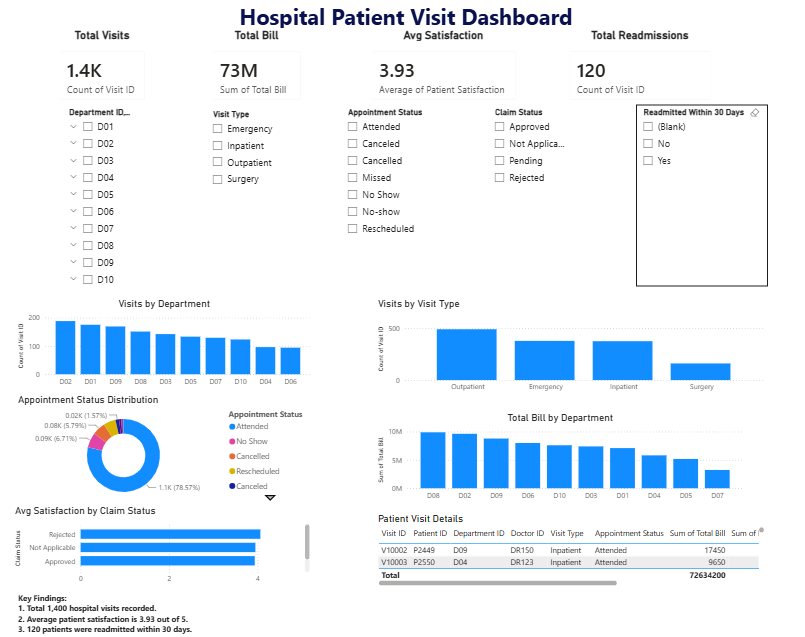

The dashboard page shown, as its layout file describes it:
{"tool":"powerbi","page":{"name":"Page 1","canvas":[1400,1100],"ordinal":0},"visuals":[{"type":"textbox","box":[64,0,1270,72],"z":0},{"type":"cardVisual","title":"Total Visits","fields":{"Data":["CountNonNull(Patient_Visits.Visit ID)"]},"box":[90,52.5,180,140],"z":1000},{"type":"cardVisual","title":"Total Bill","fields":{"Data":["Sum(Patient_Visits.Total Bill)"]},"box":[352.5,52.5,185,140],"z":2000},{"type":"cardVisual","title":"Avg Satisfaction","fields":{"Data":["Avg(Patient_Visits.Patient Satisfaction)"]},"box":[622.5,52.5,280,140],"z":3000},{"type":"cardVisual","title":"Total Readmissions","fields":{"Data":["CountNonNull(Patient_Visits.Visit ID)"]},"box":[962.5,52.5,275,140],"z":4000},{"type":"clusteredColumnChart","title":"Visits by Department","fields":{"Category":["Patient_Visits.Department ID"],"Y":["CountNonNull(Patient_Visits.Visit ID)"]},"box":[30,513.3,510,160],"z":5000},{"type":"clusteredColumnChart","title":"Total Bill by Department","fields":{"Category":["Patient_Visits.Department ID"],"Y":["Sum(Patient_Visits.Total Bill)"]},"box":[646.7,706.7,633.3,160],"z":6000},{"type":"donutChart","title":"Appointment Status Distribution","fields":{"Category":["Patient_Visits.Appointment Status"],"Y":["CountNonNull(Patient_Visits.Visit ID)"]},"box":[30,676.7,510,190],"z":7000},{"type":"clusteredColumnChart","title":"Visits by Visit Type","fields":{"Category":["Patient_Visits.Visit Type"],"Y":["CountNonNull(Patient_Visits.Visit ID)"]},"box":[646.7,513.3,670,170],"z":8000},{"type":"clusteredBarChart","title":"Avg Satisfaction by Claim Status","fields":{"Category":["Patient_Visits.Claim Status"],"Y":["Avg(Patient_Visits.Patient Satisfaction)"]},"box":[26.7,866.7,513.3,143.3],"z":9000},{"type":"tableEx","title":"Patient Visit Details","fields":{"Values":["Patient_Visits.Visit ID","Patient_Visits.Patient ID","Patient_Visits.Department ID","Patient_Visits.Doctor ID","Patient_Visits.Visit Type","Patient_Visits.Appointment Status","Sum(Patient_Visits.Total Bill)","Sum(Patient_Visits.Patient Satisfaction)","Patient_Visits.Claim Status","Patient_Visits.Readmitted Within 30 Days"]},"box":[646.7,880,670,130],"z":10000},{"type":"slicer","fields":{"Values":["Patient_Visits.Department ID","Patient_Visits.Visit Type","Patient_Visits.Appointment Status","Patient_Visits.Claim Status","Patient_Visits.Readmitted Within 30 Days"]},"box":[110,182.9,140,330],"z":11000},{"type":"textbox","box":[30,1010,1286.7,86.7],"z":12000},{"type":"slicer","fields":{"Values":["Patient_Visits.Visit Type"]},"box":[356.7,183.3,183.3,320],"z":12001},{"type":"slicer","fields":{"Values":["Patient_Visits.Appointment Status"]},"box":[587.1,182.9,170,310],"z":12002},{"type":"slicer","fields":{"Values":["Patient_Visits.Claim Status"]},"box":[838.6,182.9,142.9,310],"z":12003},{"type":"slicer","fields":{"Values":["Patient_Visits.Readmitted Within 30 Days"]},"box":[1092.9,182.9,224.3,310],"z":12004}]}

Visuals, with their boxes in screenshot pixels (x1, y1, x2, y2), scaled from the page's 1400x1100 canvas onto the 805x637 screenshot:
textbox: BBox(37, 0, 767, 42)
"Total Visits" cardVisual: BBox(52, 30, 155, 111)
"Total Bill" cardVisual: BBox(203, 30, 309, 111)
"Avg Satisfaction" cardVisual: BBox(358, 30, 519, 111)
"Total Readmissions" cardVisual: BBox(553, 30, 712, 111)
"Visits by Department" clusteredColumnChart: BBox(17, 297, 310, 390)
"Total Bill by Department" clusteredColumnChart: BBox(372, 409, 736, 502)
"Appointment Status Distribution" donutChart: BBox(17, 392, 310, 502)
"Visits by Visit Type" clusteredColumnChart: BBox(372, 297, 757, 396)
"Avg Satisfaction by Claim Status" clusteredBarChart: BBox(15, 502, 310, 585)
"Patient Visit Details" tableEx: BBox(372, 510, 757, 585)
slicer - Patient_Visits.Department ID x Patient_Visits.Visit Type: BBox(63, 106, 144, 297)
textbox: BBox(17, 585, 757, 635)
slicer - Patient_Visits.Visit Type: BBox(205, 106, 310, 291)
slicer - Patient_Visits.Appointment Status: BBox(338, 106, 435, 285)
slicer - Patient_Visits.Claim Status: BBox(482, 106, 564, 285)
slicer - Patient_Visits.Readmitted Within 30 Days: BBox(628, 106, 757, 285)
